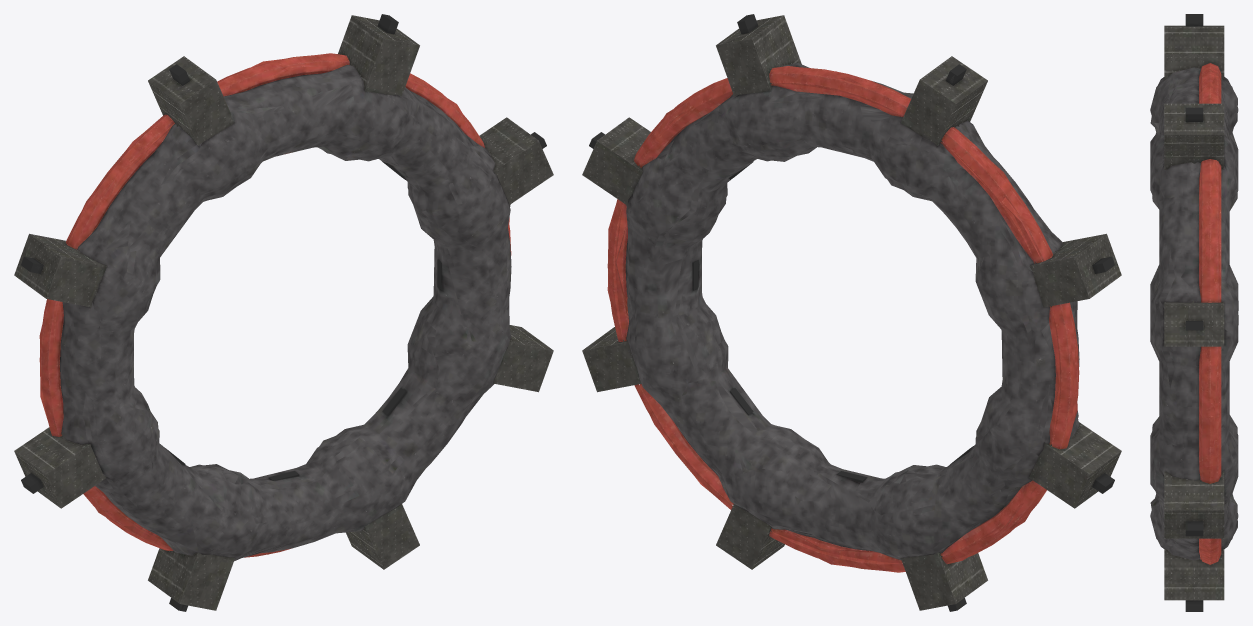
File: sd_prop_gate_korsan.glb
The picture shows the model from 3 angles, left to right: view 1: azimuth 30°, elevation 25°; view 2: azimuth 150°, elevation 25°; view 3: azimuth 270°, elevation 25°; orthographic projection. The views are drawn at different scales.
Parts seen in each view (by area): view 1: LOD0_body, LOD1_body; view 2: LOD0_body, LOD1_body; view 3: LOD0_body, LOD1_body.
Boxes of the visible parts, left/top/right/bottom form: LOD0_body: left=14, top=14, right=553, bottom=611; LOD1_body: left=33, top=31, right=510, bottom=610; LOD0_body: left=582, top=14, right=1121, bottom=611; LOD1_body: left=607, top=66, right=1102, bottom=572; LOD0_body: left=1150, top=14, right=1238, bottom=611; LOD1_body: left=1150, top=63, right=1238, bottom=561.
Bounding box in the file's own units: 1 × 1 × 0.1595.
Materials: 1 (1 with a texture image).
